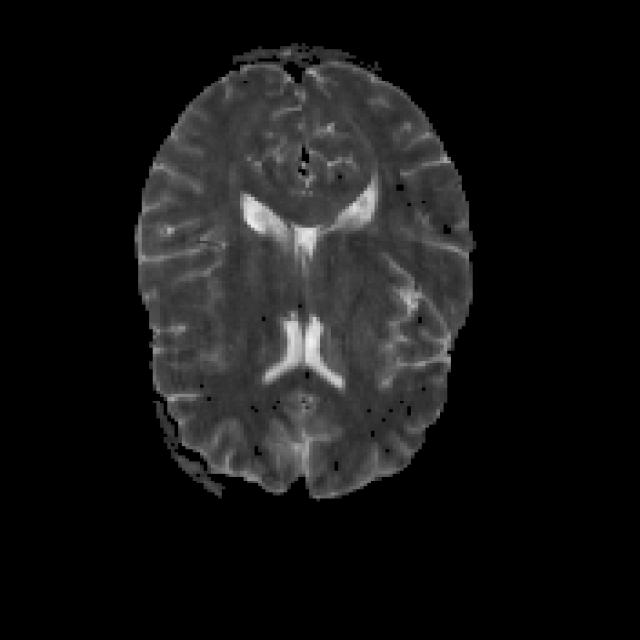CONTROL: (131, 40, 476, 498)
